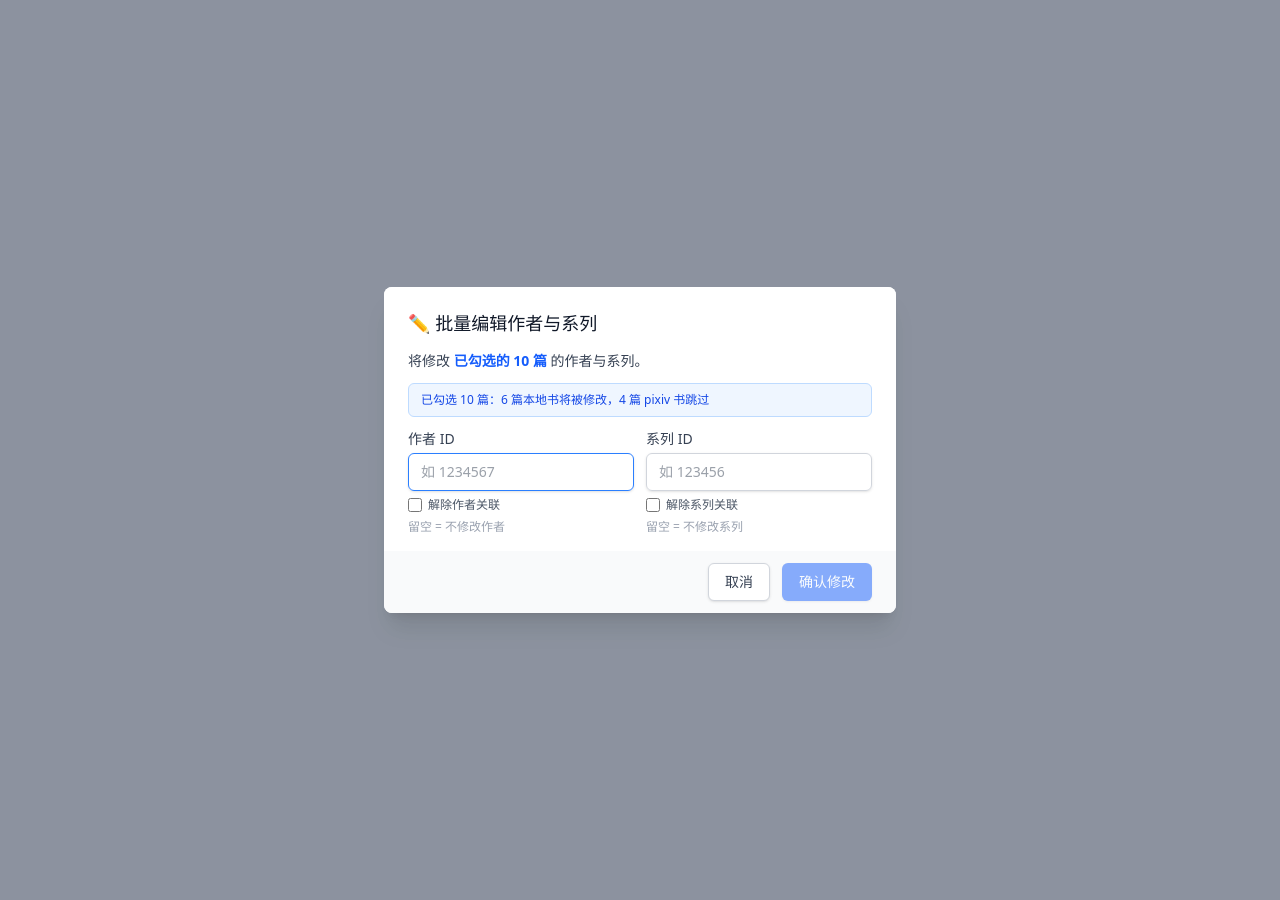
Scenario: BatchEditModal › 非数字 / 0 / 负数一律拦提交（红字），改回正整数即可确认
The width and height of the screenshot is (1280, 900).
Type "abc" into the field with test id "batch-edit-author-input". click: [521, 472]
box: [408,453,634,491]
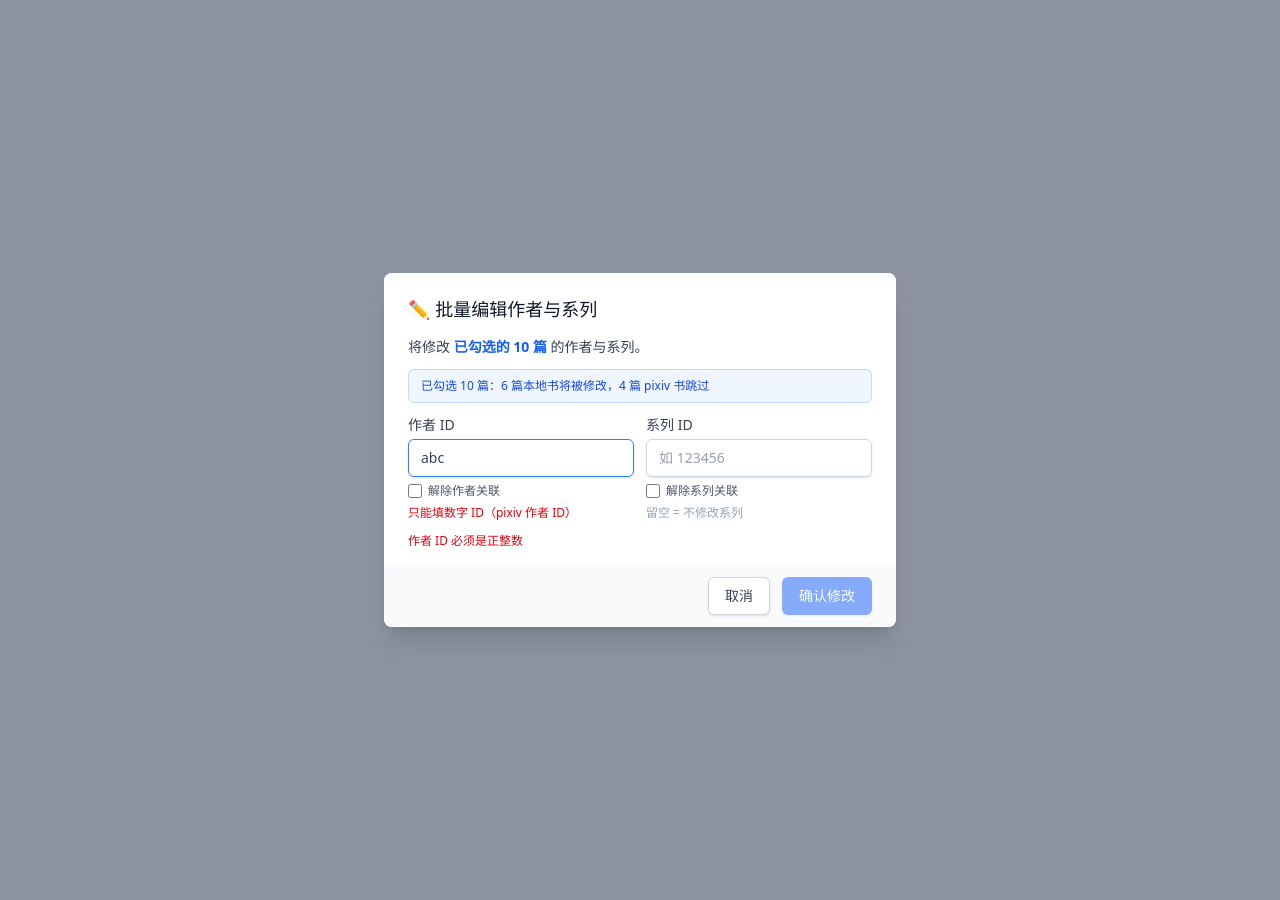
expect the submit button is disabled: met, box [782,577,872,615]
Submit the form, box [384,273,896,627]
Replace the text in the field with test id "batch-edit-author-input" with "0". click: [521, 458]
box: [408,439,634,477]
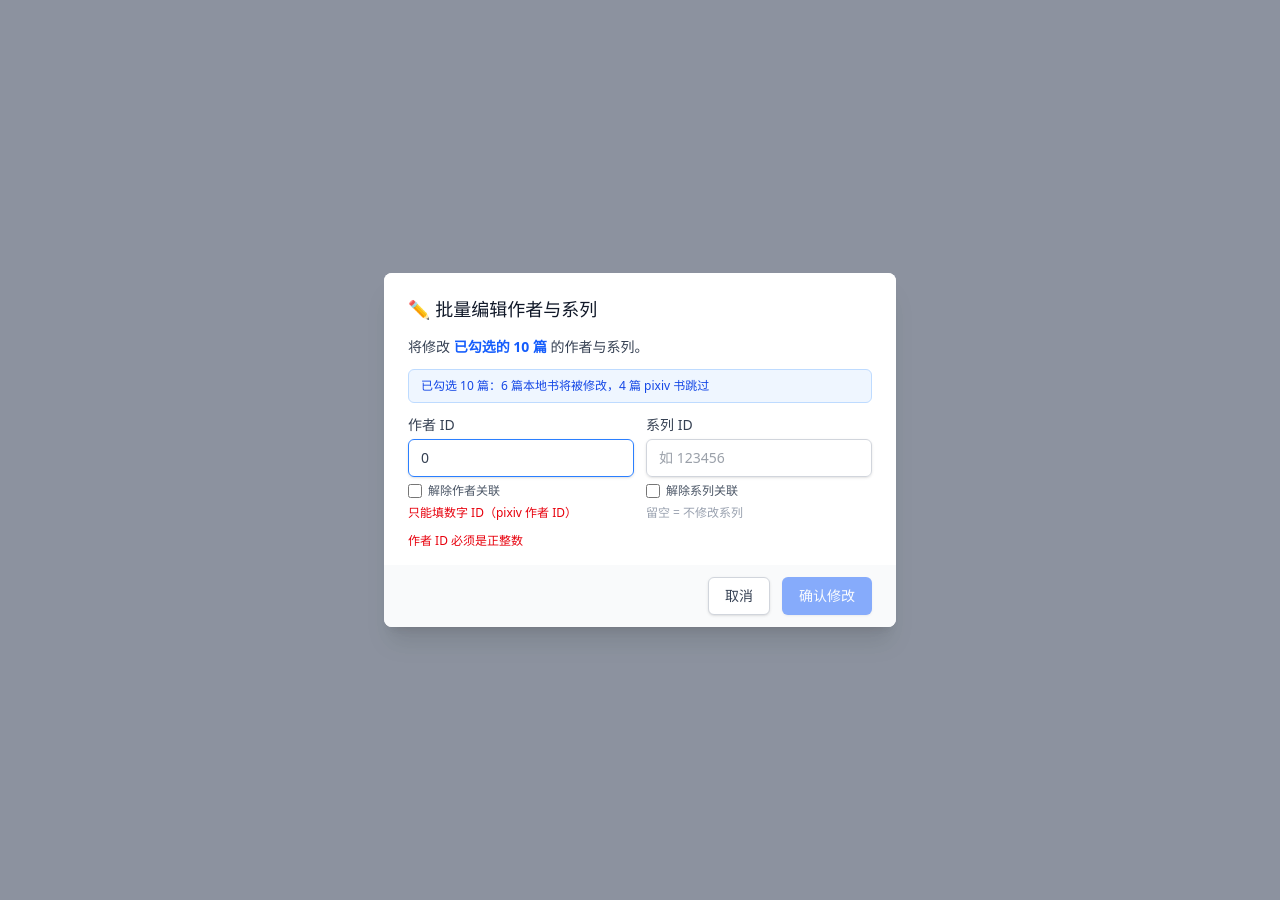
expect the submit button is disabled: met, box [782,577,872,615]
Replace the text in the field with test id "batch-edit-author-input" with "-5". click: [521, 458]
box: [408,439,634,477]
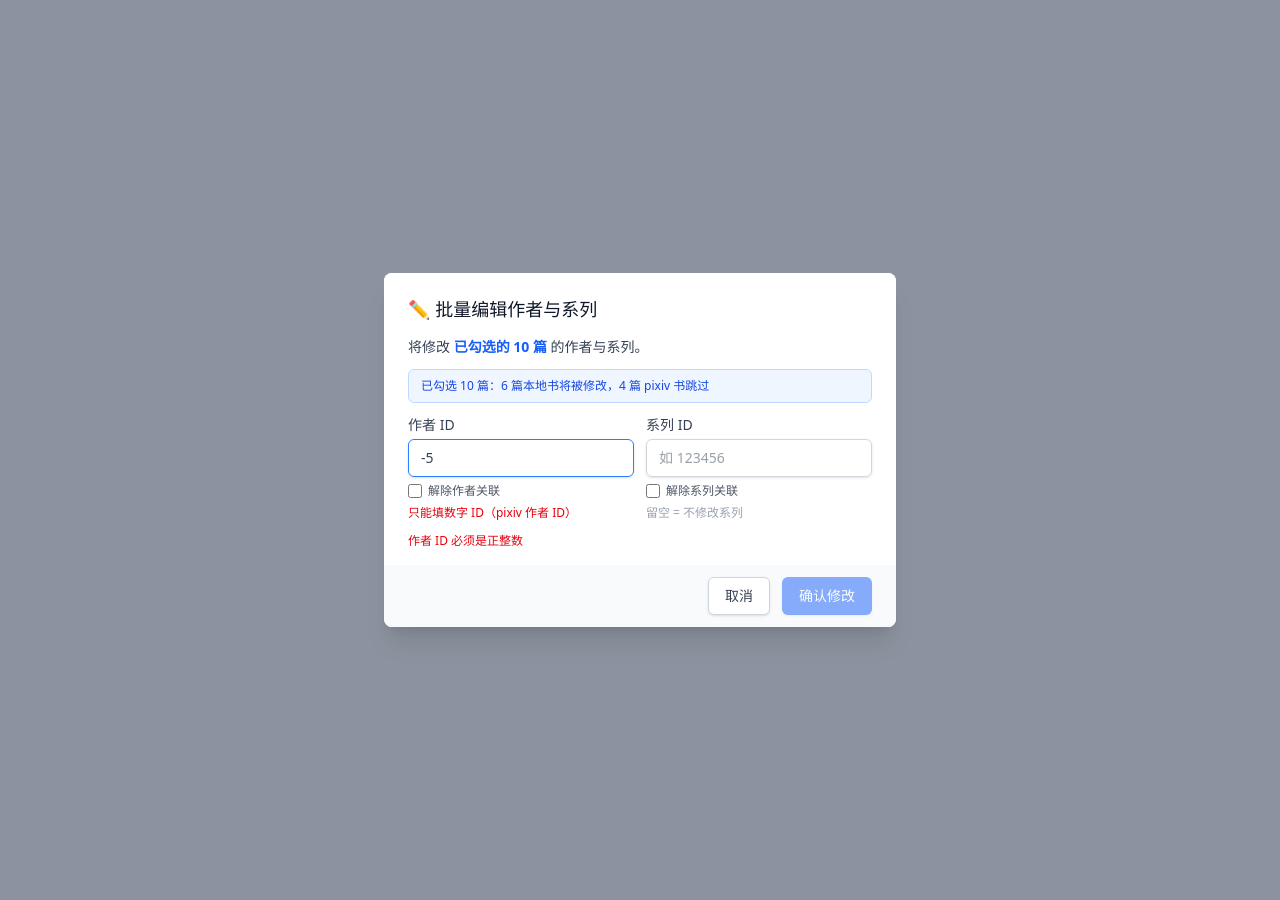
expect the submit button is disabled: met, box [782,577,872,615]
Replace the text in the field with test id "batch-edit-author-input" with "777". click: [521, 458]
box: [408,439,634,477]
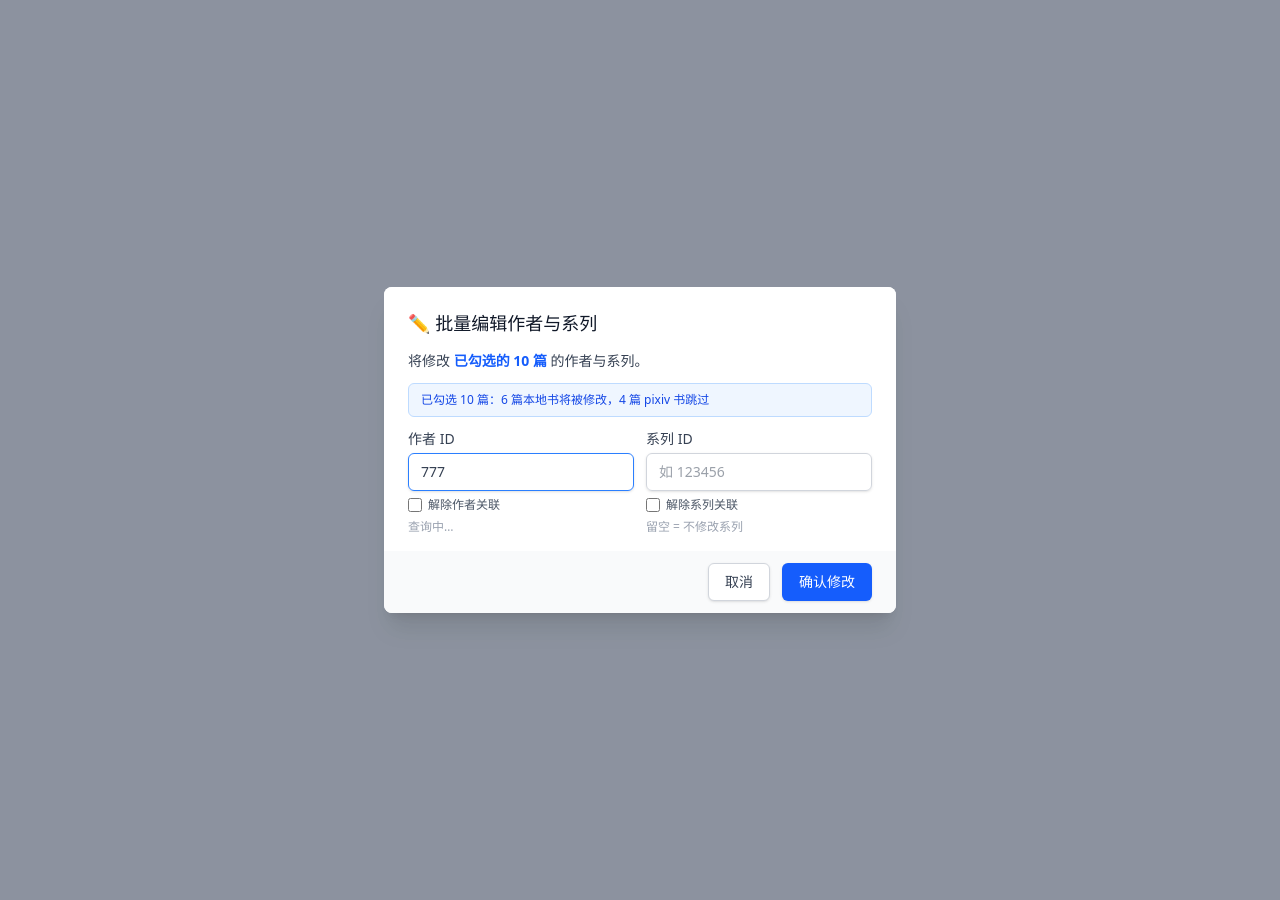
expect the submit button is enabled: met, box [782,563,872,601]
